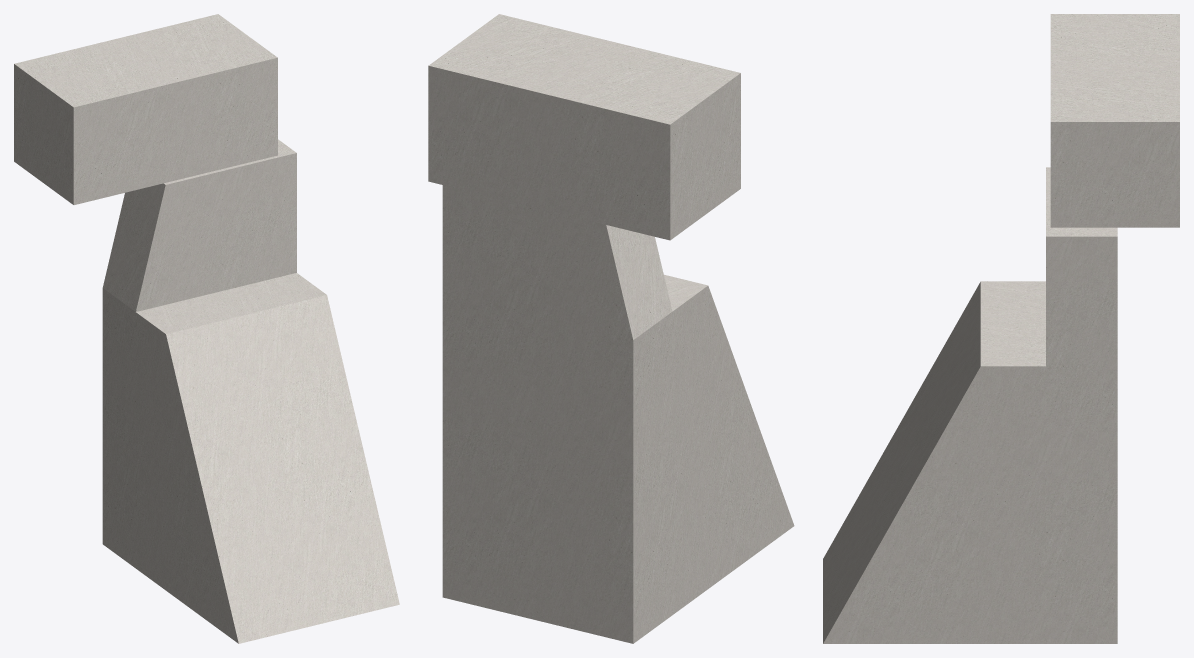
File: rook-white.glb
3 views of the same model, side by side, from view 1: azimuth 30°, elevation 25°; view 2: azimuth 150°, elevation 25°; view 3: azimuth 270°, elevation 25° (orthographic). The views are drawn at different scales.
Parts seen in each view (by area): view 1: vez_bila; view 2: vez_bila; view 3: vez_bila.
Part boxes in pixels (<box>): vez_bila: <box>14,14,399,643</box>; vez_bila: <box>428,14,794,643</box>; vez_bila: <box>823,14,1179,643</box>.
Bounding box in the file's own units: 0.6194 × 1.27 × 0.8004.
Materials: 1 (1 with a texture image).
